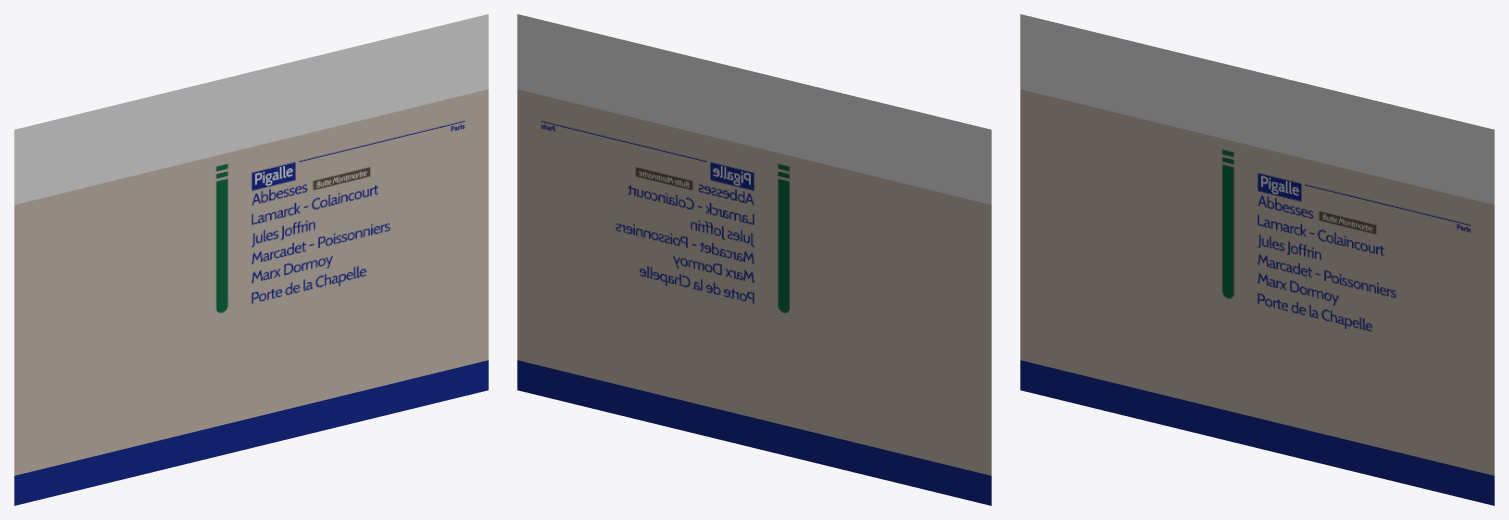
File: MetroSignBoard.glb
3 renders of one model, left to right at view 1: azimuth 30°, elevation 25°; view 2: azimuth 150°, elevation 25°; view 3: azimuth 330°, elevation 25°, orthographic.
Visible parts, largest first — view 1: MetroSignboard; view 2: MetroSignboard; view 3: MetroSignboard.
Boxes of the visible parts, box(x1,y1,x2,y2) form: MetroSignboard: box(14, 14, 488, 505); MetroSignboard: box(517, 14, 991, 505); MetroSignboard: box(1020, 14, 1494, 505).
Size of the model in its own units: 9.5 by 7.2 by 8.74e-08.
Materials: 3 (1 with a texture image).
